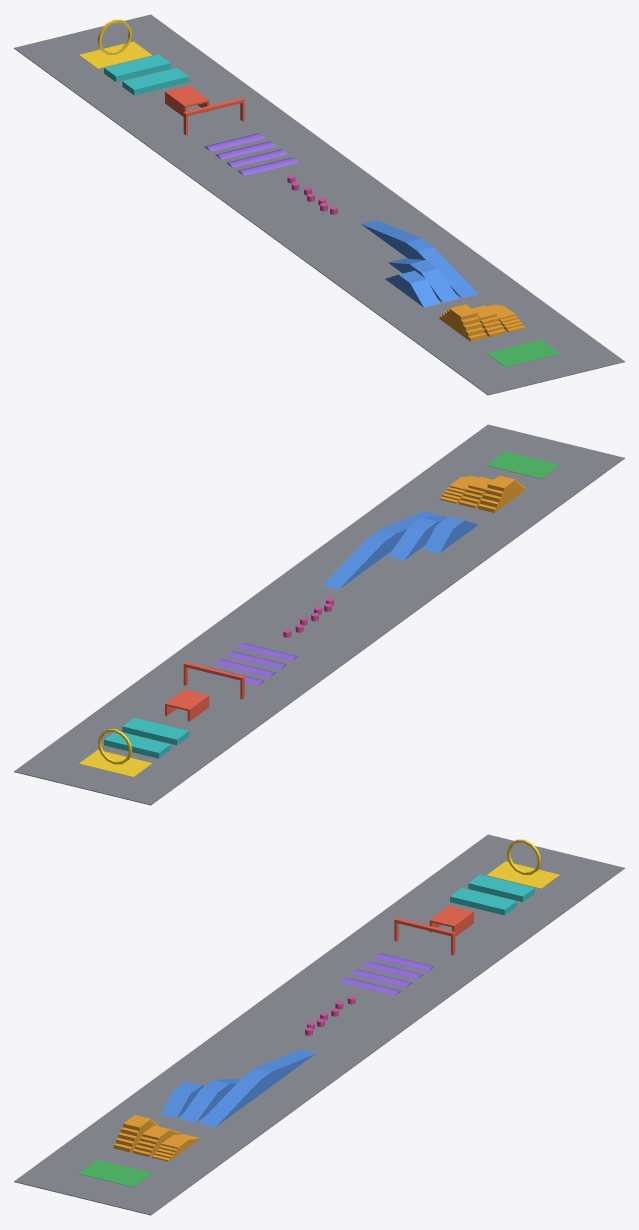
Rendered from obstacle_course.glb.
The picture shows the model from 3 angles, top to bottom: view 1: azimuth 30°, elevation 25°; view 2: azimuth 150°, elevation 25°; view 3: azimuth 330°, elevation 25°; orthographic projection.
Parts seen in each view (by area): view 1: Floor, Ramp_a, Ramp_b, StartPad, Stairs_c, PlatformFar, PlatformNear, Ramp_c, FinishPad, Tunnel, Stairs_b, Beam (+1 smaller); view 2: Floor, Ramp_a, Ramp_b, StartPad, Stairs_c, PlatformNear, Ramp_c, PlatformFar, FinishPad, Tunnel, Stairs_b, Beam (+1 smaller); view 3: Floor, Ramp_a, Ramp_b, StartPad, PlatformFar, PlatformNear, FinishPad, Stairs_c, Ramp_c, Tunnel, Stairs_b, Stairs_a (+1 smaller).
Boxes of the visible parts, <box> form: Floor: <box>14,14,624,395</box>; Ramp_a: <box>361,220,478,298</box>; Ramp_b: <box>388,258,459,302</box>; StartPad: <box>486,340,559,367</box>; Stairs_c: <box>439,304,486,341</box>; PlatformFar: <box>104,54,170,81</box>; PlatformNear: <box>122,68,188,95</box>; Ramp_c: <box>385,270,439,307</box>; FinishPad: <box>79,41,152,68</box>; Tunnel: <box>165,85,209,116</box>; Stairs_b: <box>472,305,506,336</box>; Beam: <box>183,98,244,135</box>; Floor: <box>14,424,624,805</box>; Ramp_a: <box>323,511,439,589</box>; Ramp_b: <box>388,516,446,560</box>; StartPad: <box>486,451,559,478</box>; Stairs_c: <box>478,475,525,512</box>; PlatformNear: <box>122,717,188,745</box>; Ramp_c: <box>423,516,478,553</box>; PlatformFar: <box>104,732,170,758</box>; FinishPad: <box>79,750,152,777</box>; Tunnel: <box>165,689,209,721</box>; Stairs_b: <box>459,476,493,508</box>; Beam: <box>183,662,244,699</box>; Floor: <box>14,834,624,1215</box>; Ramp_a: <box>199,1049,315,1127</box>; Ramp_b: <box>179,1078,239,1122</box>; StartPad: <box>79,1160,152,1187</box>; PlatformFar: <box>468,874,534,901</box>; PlatformNear: <box>450,888,516,915</box>; FinishPad: <box>486,861,559,888</box>; Stairs_c: <box>113,1115,160,1152</box>; Ramp_c: <box>160,1081,204,1118</box>; Tunnel: <box>429,905,473,936</box>; Stairs_b: <box>132,1125,179,1156</box>; Stairs_a: <box>152,1134,199,1161</box>.
Size of the model in its own units: 10 by 2.48 by 59.94.
